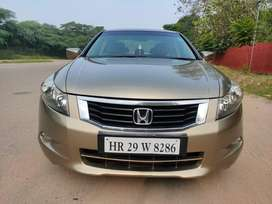HR29W8286: (104, 136, 180, 154)
